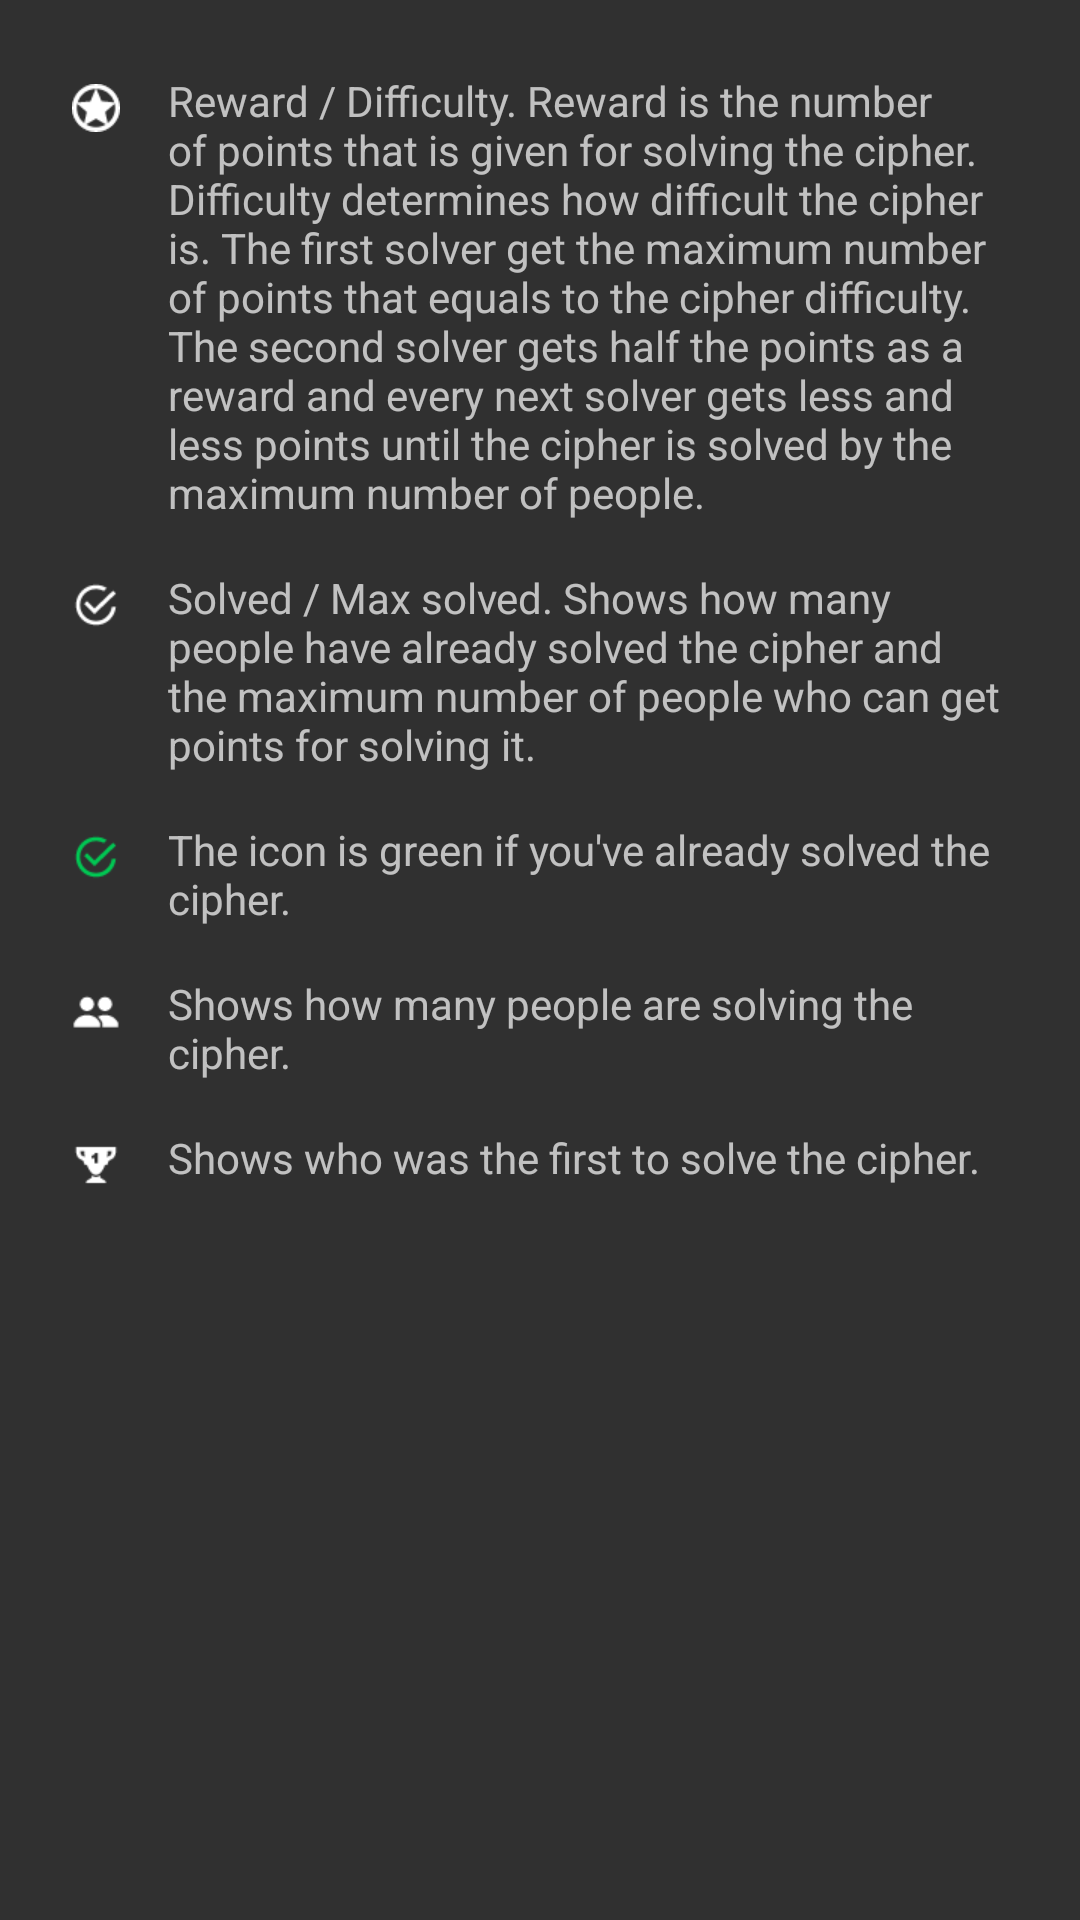

Where icons sit on this 1080 × 1920 app screen, as (x1, y1, x2, y2):
first solver: (75, 1146, 117, 1184)
solved count: (75, 584, 116, 626)
solved count correct: (75, 836, 116, 878)
